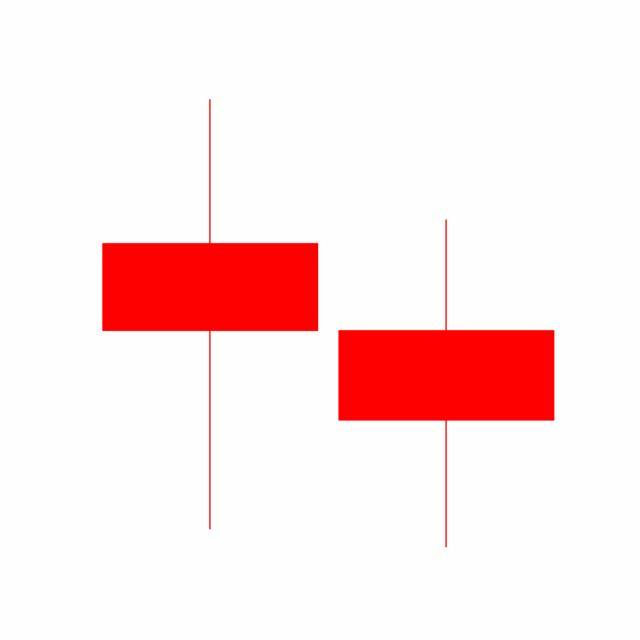Spinning Top: (328, 217, 566, 552)
